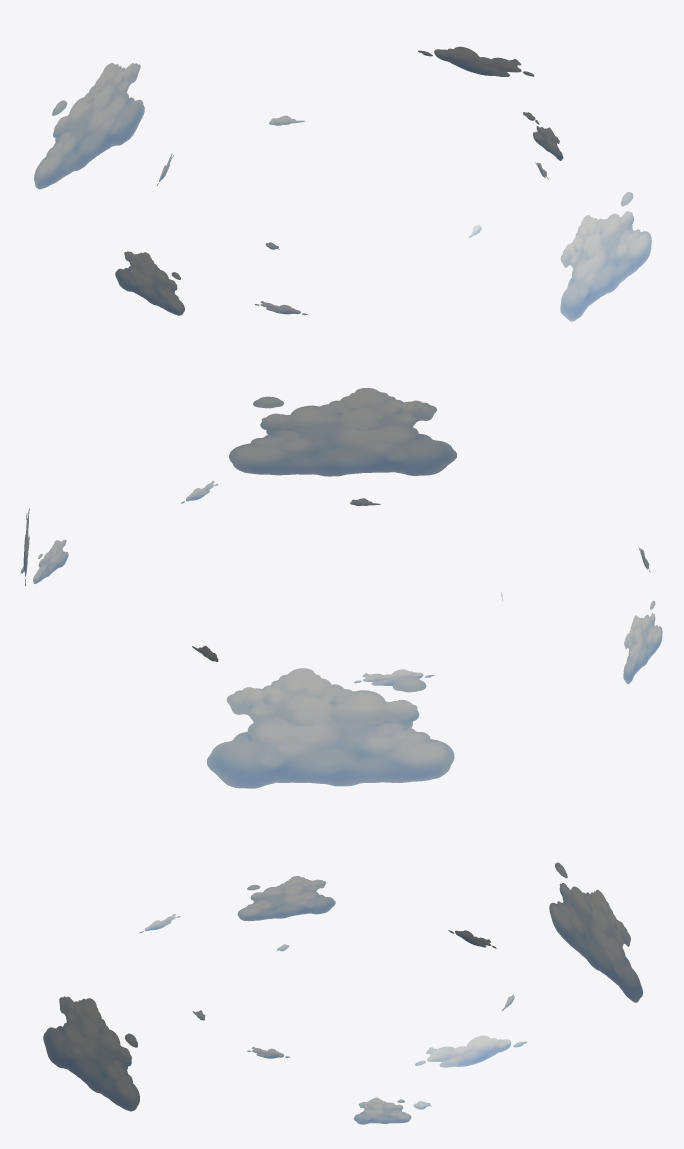
Rendered from colud.FBX.
3 views of the same model, one above another, from view 1: azimuth 30°, elevation 25°; view 2: azimuth 150°, elevation 25°; view 3: azimuth 270°, elevation 25° (orthographic). The views are drawn at different scales.
Visible parts, largest first — view 1: colud_002, colud_001; view 2: colud_002, colud_001; view 3: colud_002, colud_001.
Boxes of the visible parts, x1,y1,x2,y2 form: colud_002: [34, 46, 651, 321]; colud_001: [157, 115, 548, 249]; colud_002: [20, 388, 662, 788]; colud_001: [180, 480, 502, 685]; colud_002: [43, 862, 642, 1124]; colud_001: [192, 930, 514, 1058].
Bounding box in the file's own units: 369946 × 86048 × 459488.
1 material, 1 textured.
